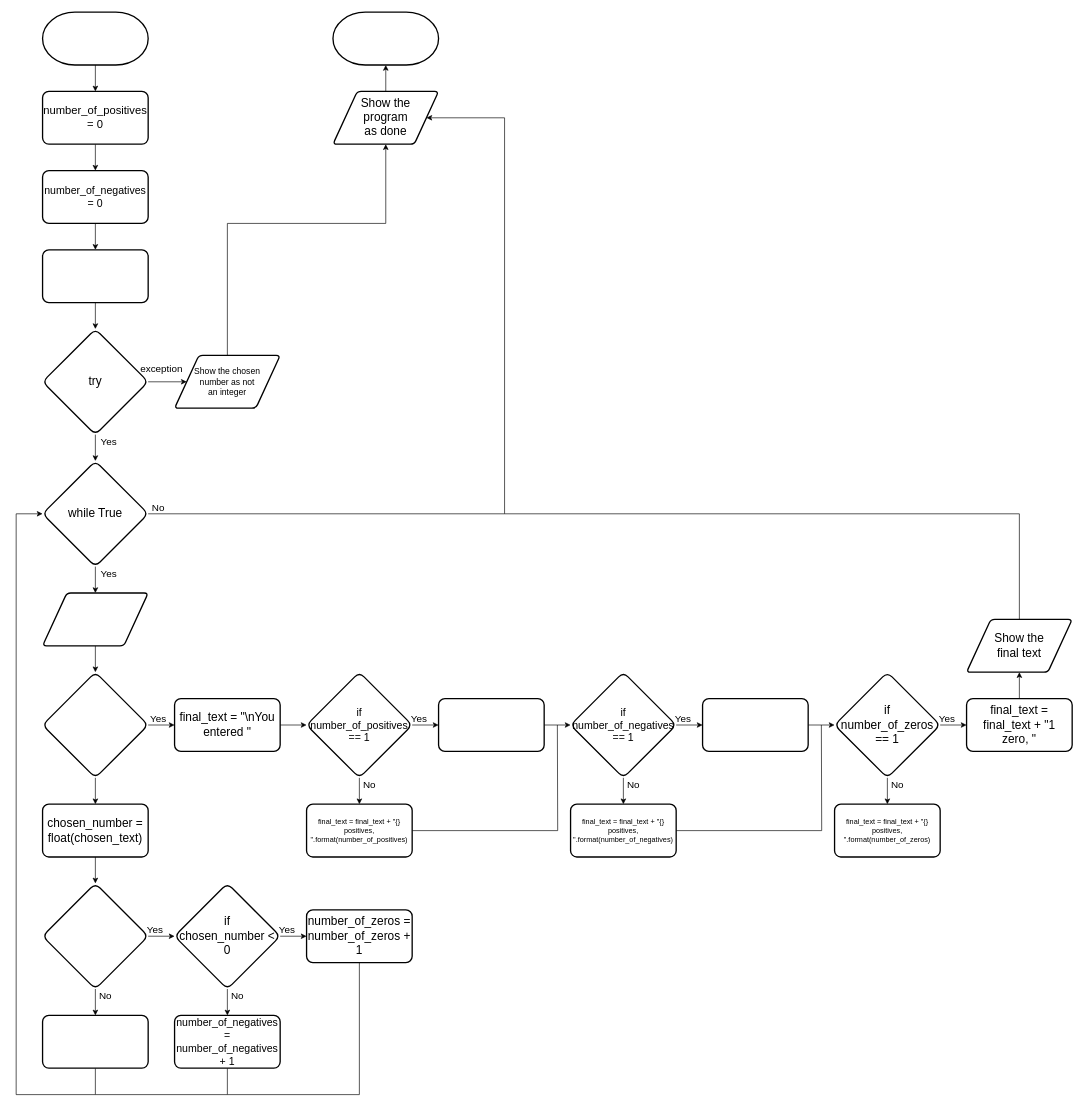
Some shapes in this 1084 by 1111 pixel diagram are drawn without their labels. Here are the shapes that lost their labels. From the top down, the box of each, then its label:
(42, 11, 148, 65): Start
(332, 11, 439, 65): Stop
(42, 249, 148, 303): number_of_zeros = 0
(42, 592, 148, 646): Set chosen text
(42, 671, 148, 778): if chosen_text == "stop"
(438, 698, 544, 752): final_text = final_text + "1 positive, "
(702, 698, 808, 752): final_text = final_text + "1 negative, "
(42, 882, 148, 989): if chosen_number > 0
(42, 1014, 148, 1069): number_of_positives = number_of_positives + 1
